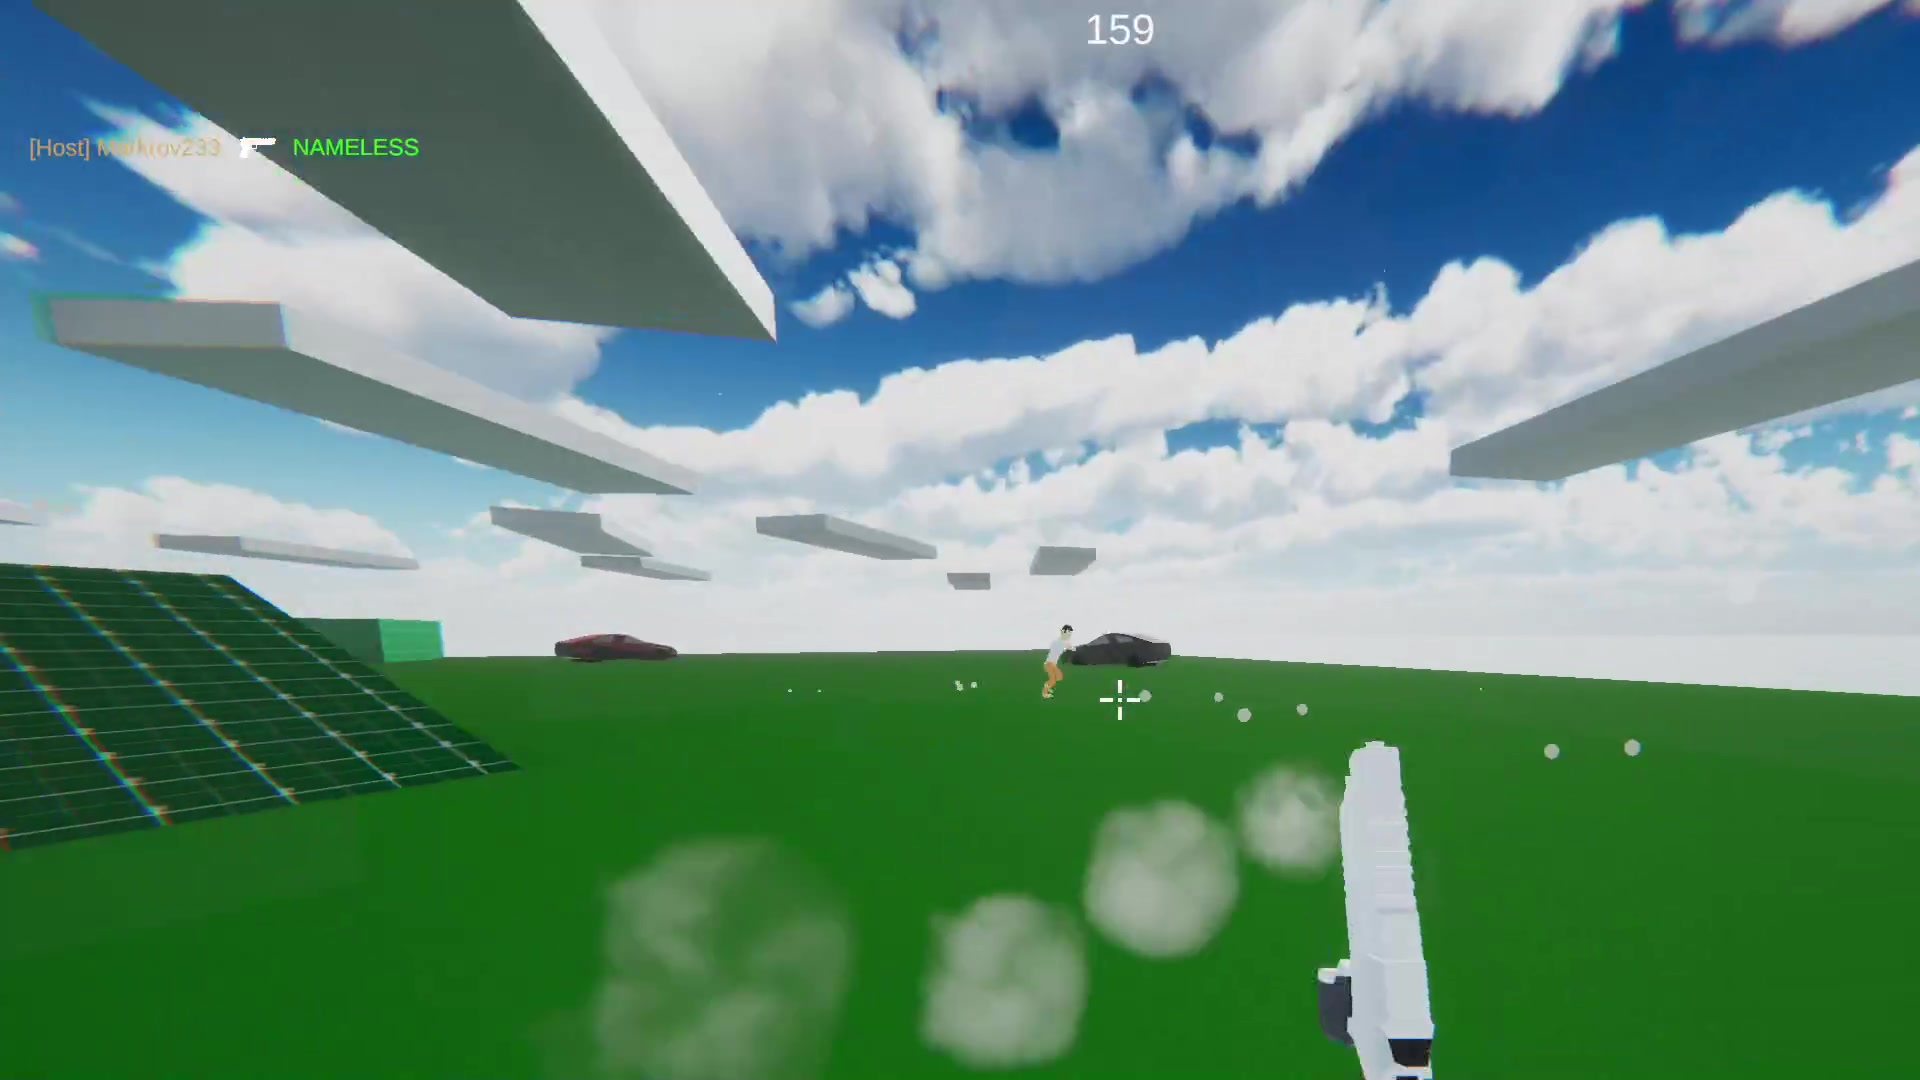human: (1048, 619, 1080, 709)
